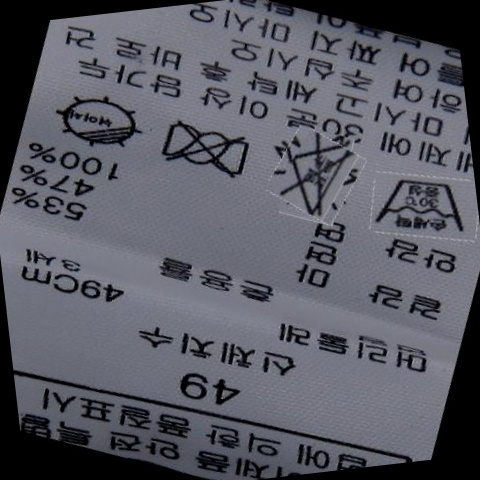DN_wring: (156, 117, 262, 180)
dry_flat_in_shade: (52, 89, 149, 154)
hand_wash: (374, 174, 471, 242)
non_chlorine_bleach: (274, 142, 358, 218)
